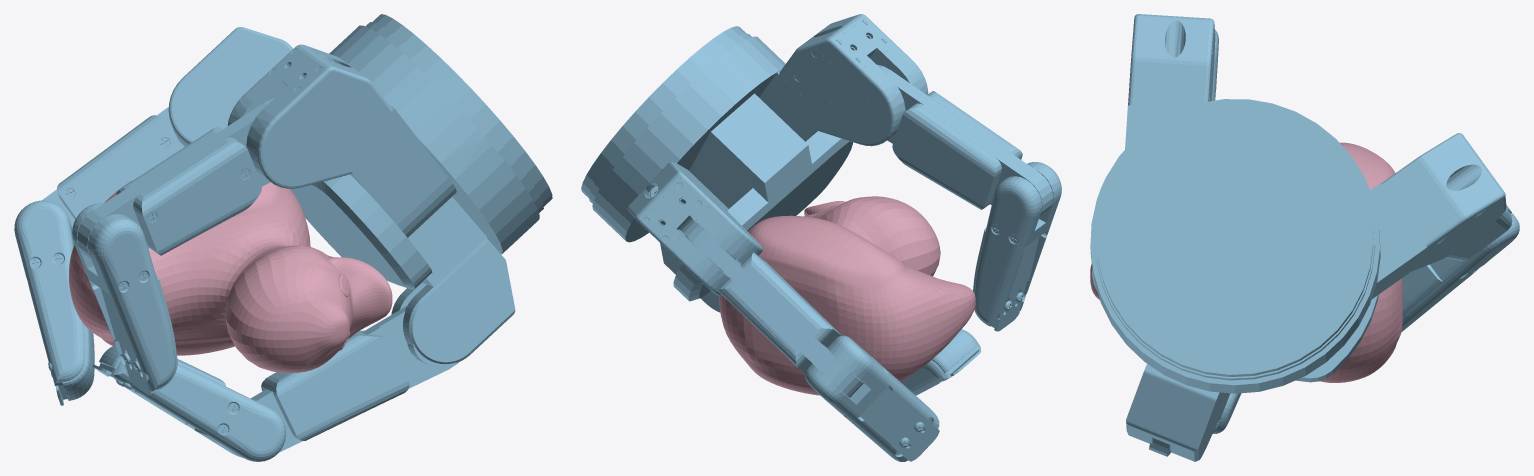
3 renders of one model, left to right at view 1: azimuth 30°, elevation 25°; view 2: azimuth 150°, elevation 25°; view 3: azimuth 270°, elevation 25°, orthographic. The views are drawn at different scales.
Visible parts, largest first — view 1: world; view 2: world; view 3: world.
Boxes of the visible parts, x1,y1,x2,y2 form: world: (14, 14, 552, 461); world: (581, 14, 1061, 461); world: (1090, 14, 1519, 461).
Size of the model in its own units: 0.1816 by 0.1496 by 0.1319.
